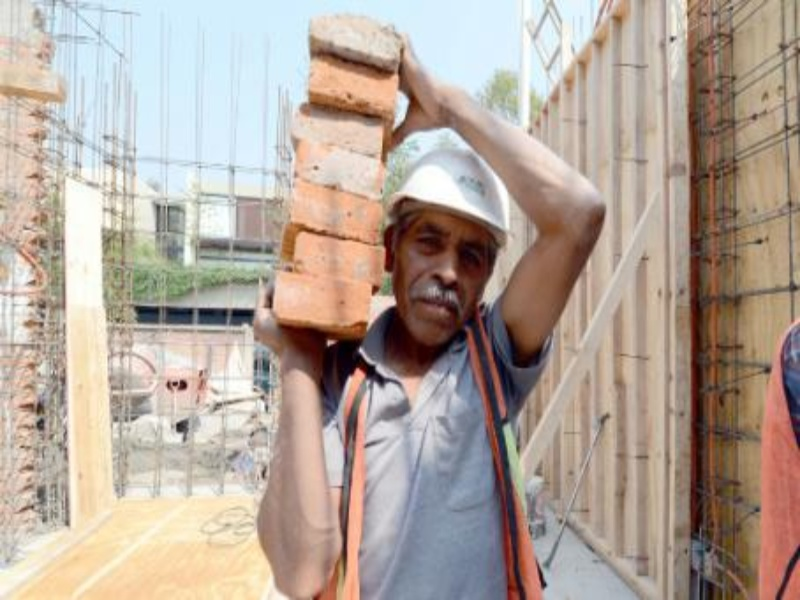casco: (384, 143, 511, 253)
